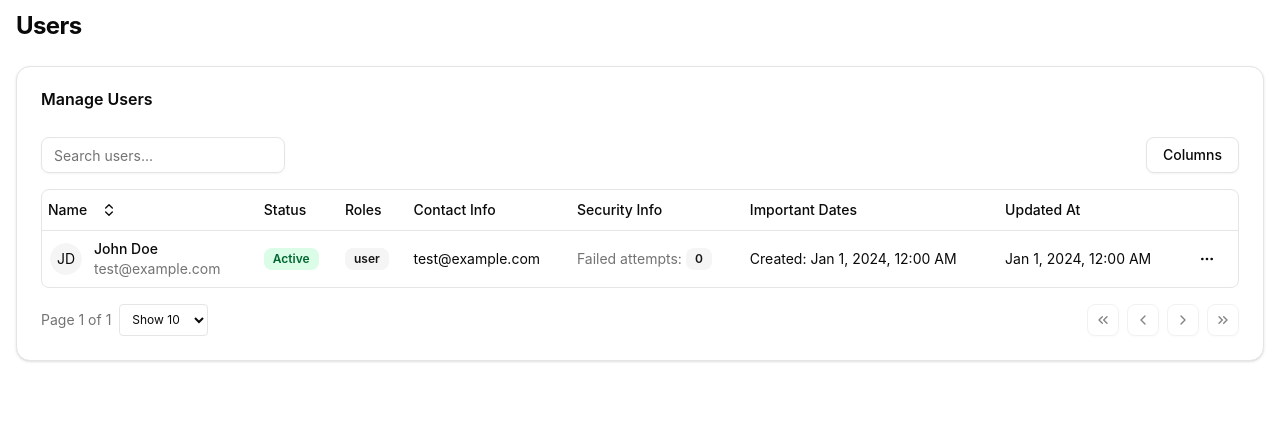
Test: UsersList Component › Permission-Based Behavior › shows resend verification option for unverified users with update permission
Click the 1st button named "open menu".
click(1207, 258)  # box [1191, 242, 1223, 274]
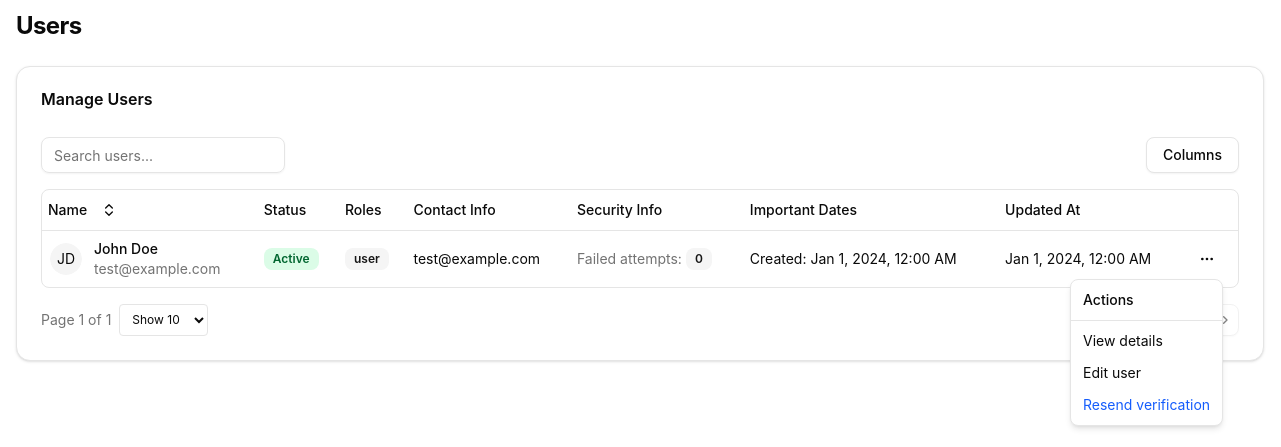
Expected: the menu item "Resend verification" is shown, [1083, 396, 1210, 413]
